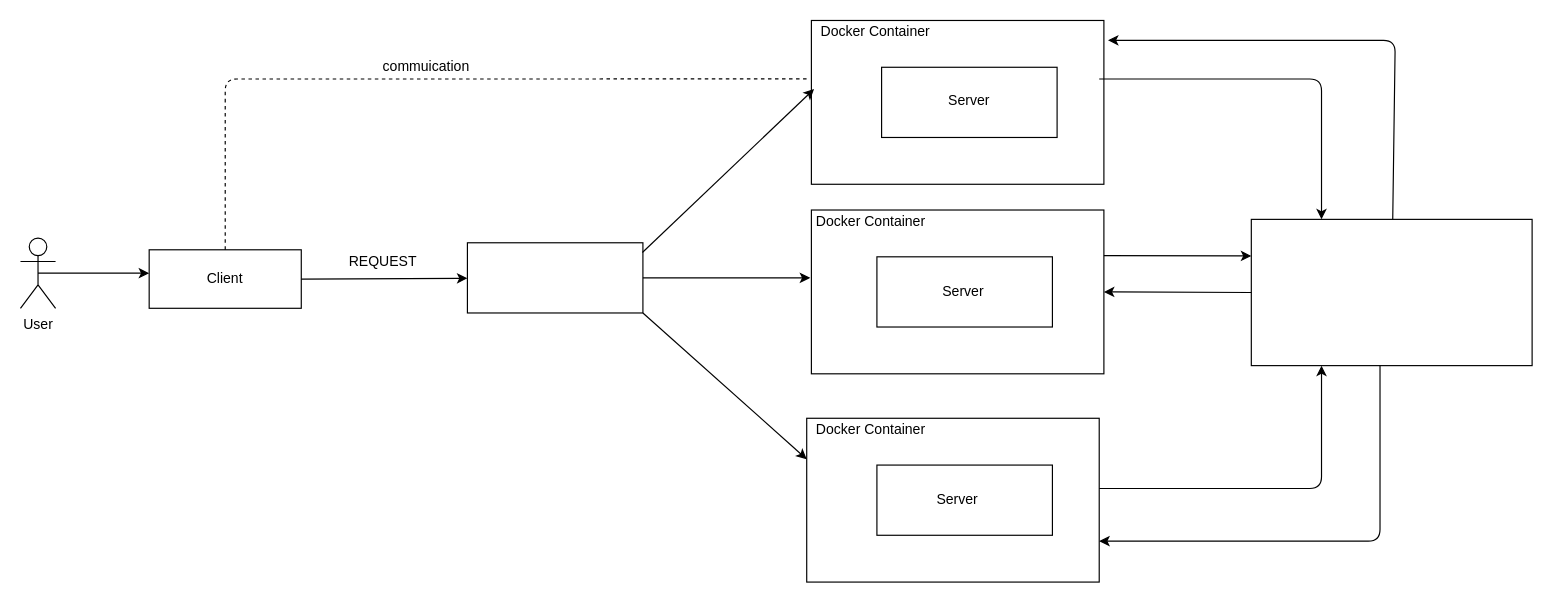
This 1553x603 diagram has some shape labels left out. Here are the shapes that lost their labels. From the top down, the centre of each, then its label:
the point at 554,277: Load Balancer
the point at 1391,292: Database
